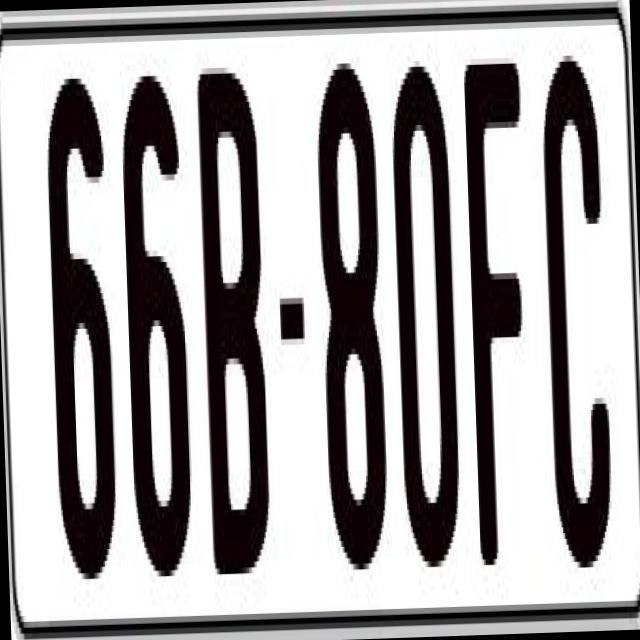0: (384, 65, 460, 603)
6: (120, 68, 197, 600), (40, 72, 114, 586)
8: (312, 44, 388, 570)
B: (191, 54, 272, 557)
C: (536, 36, 615, 562)
F: (462, 62, 544, 582)
